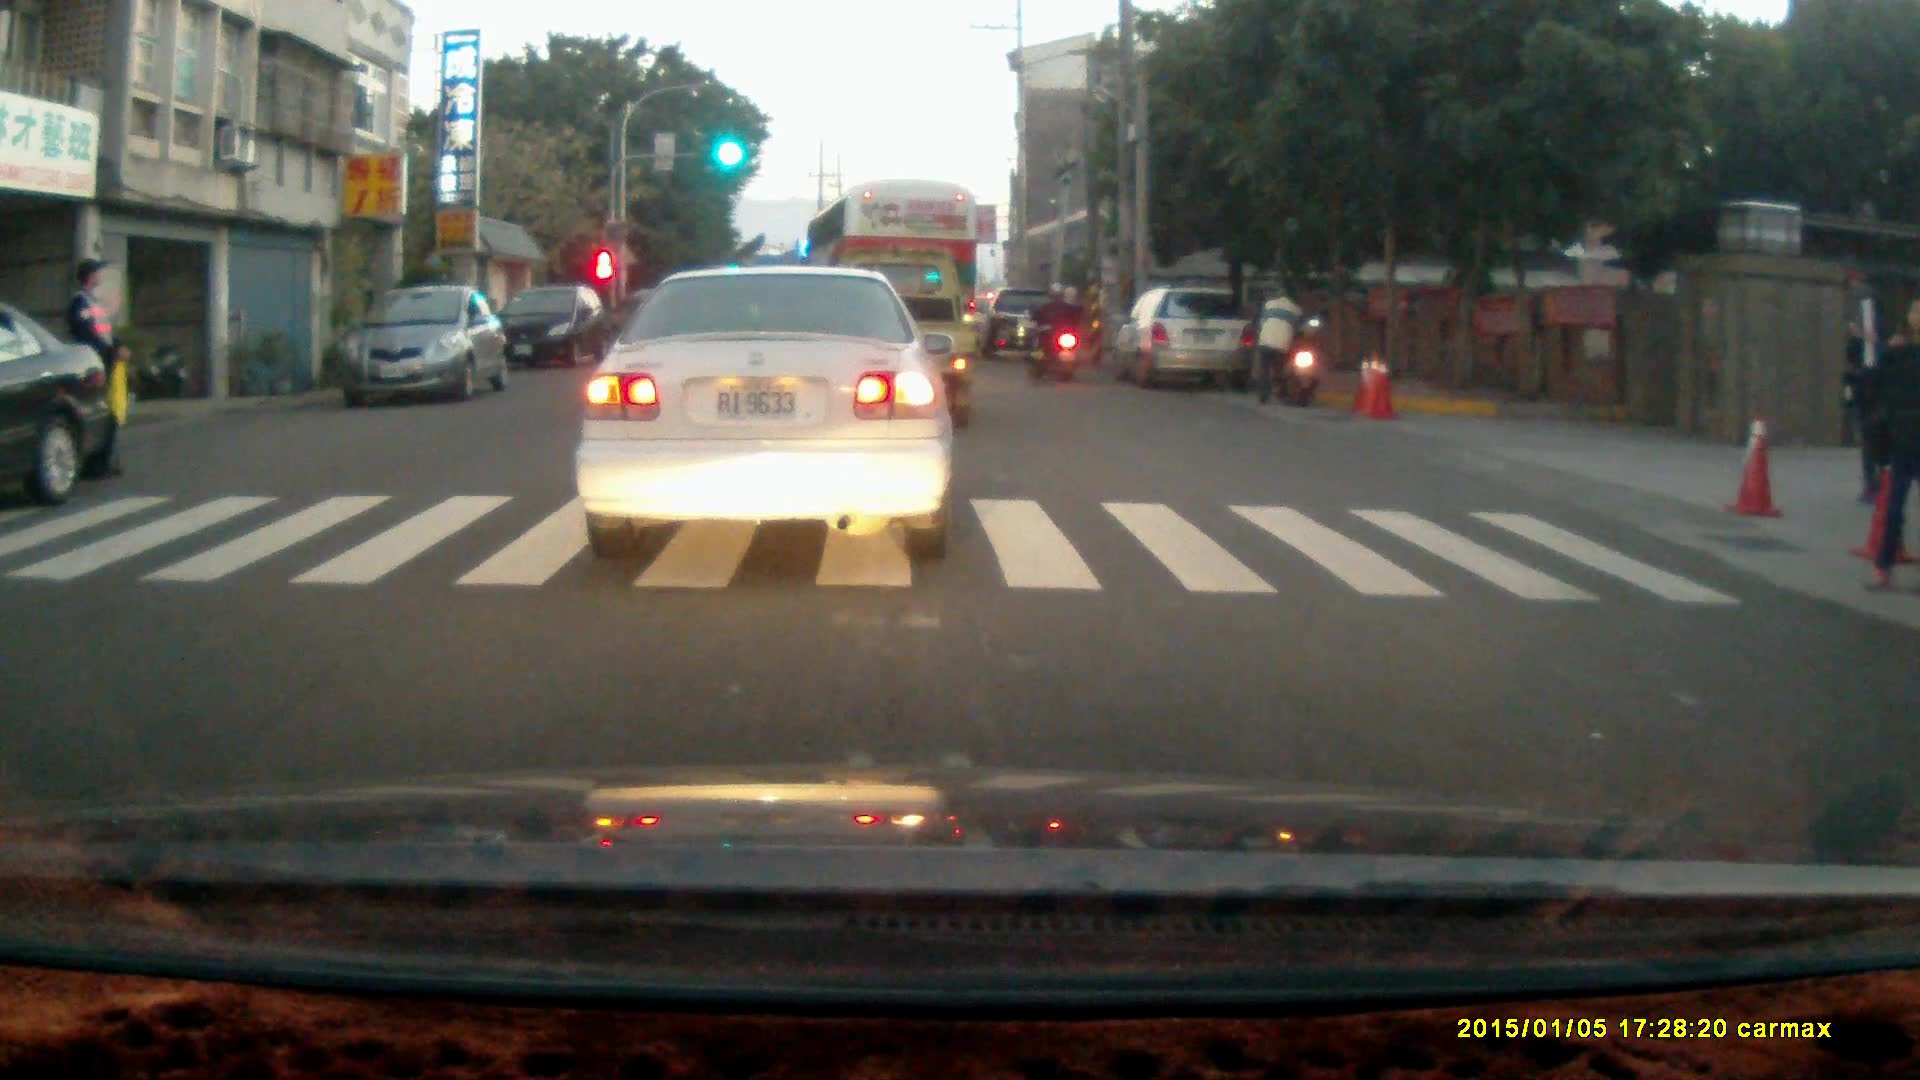pedestrian: (1857, 293, 1920, 593), (62, 256, 128, 483), (1846, 293, 1896, 507), (1253, 282, 1302, 408)
rider: (1024, 279, 1081, 388)
vehicle: (569, 263, 957, 562), (804, 180, 980, 383), (1, 300, 120, 511), (340, 285, 512, 409), (1120, 287, 1258, 390), (497, 285, 617, 371), (983, 287, 1068, 360)
